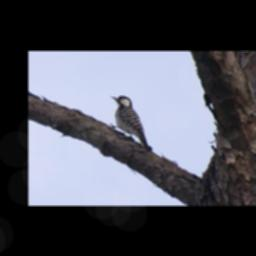Woodpecker: (106, 92, 156, 154)
